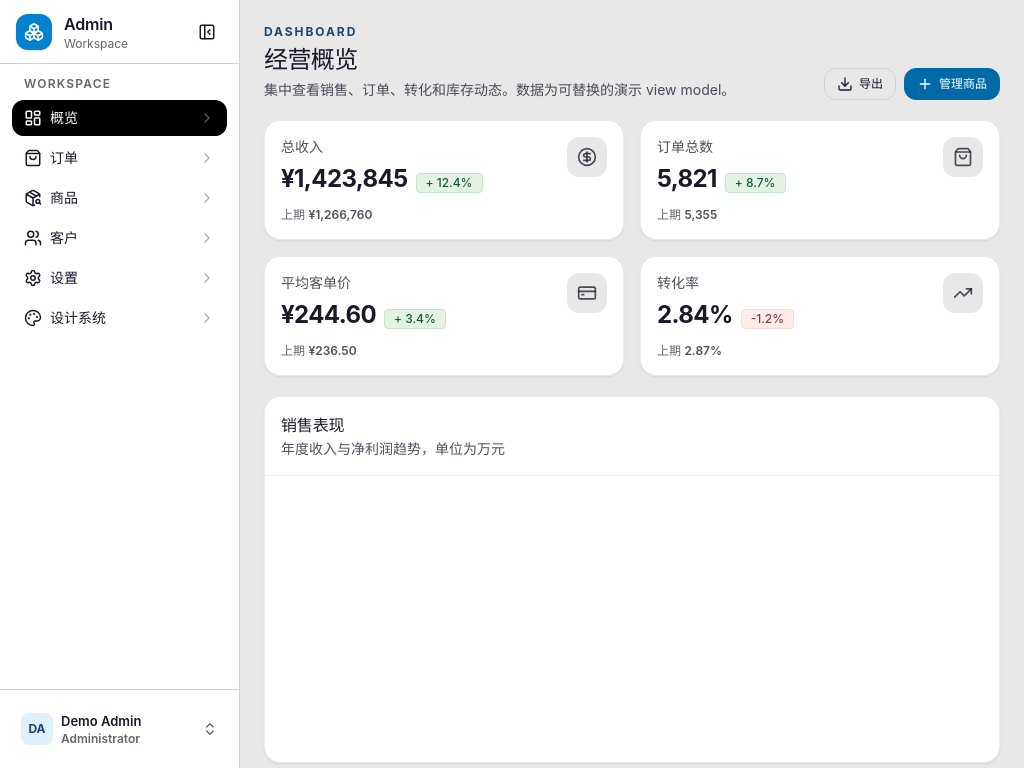
Test: admin dashboard scaffold › uses the account menu for real application navigation
This screenshot has width=1024, height=768.
Click the button with aria-label "账户导航" at [120, 729], box [12,702,227,756]
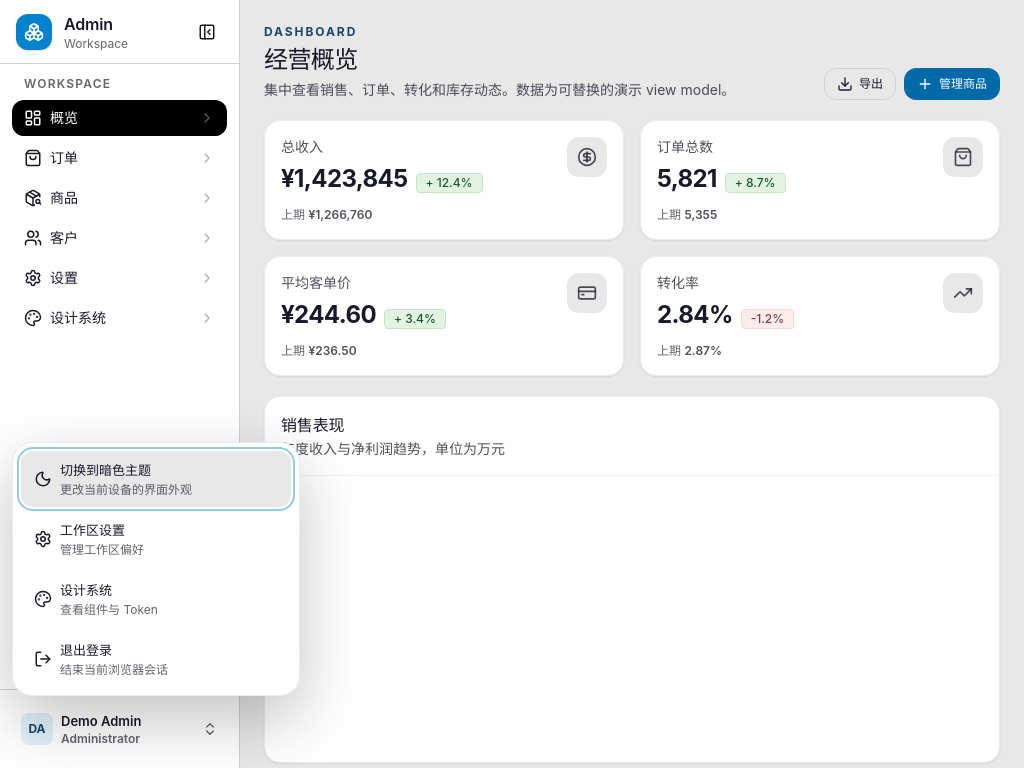
Result: the menu named "账户导航" is shown at [12,442,300,696]
Click the menu item "设计系统 查看组件与 Token" at [156, 599], box [21,571,291,627]
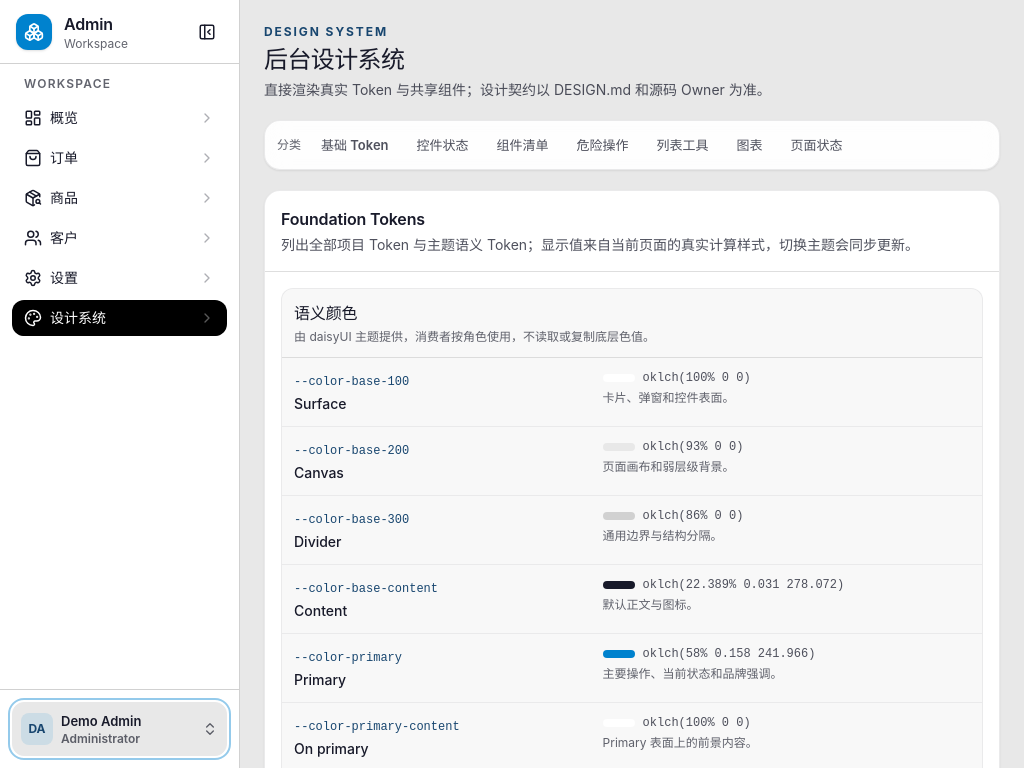
Result: the heading "后台设计系统" is shown at [264,45,404,74]
Result: the menu is gone
